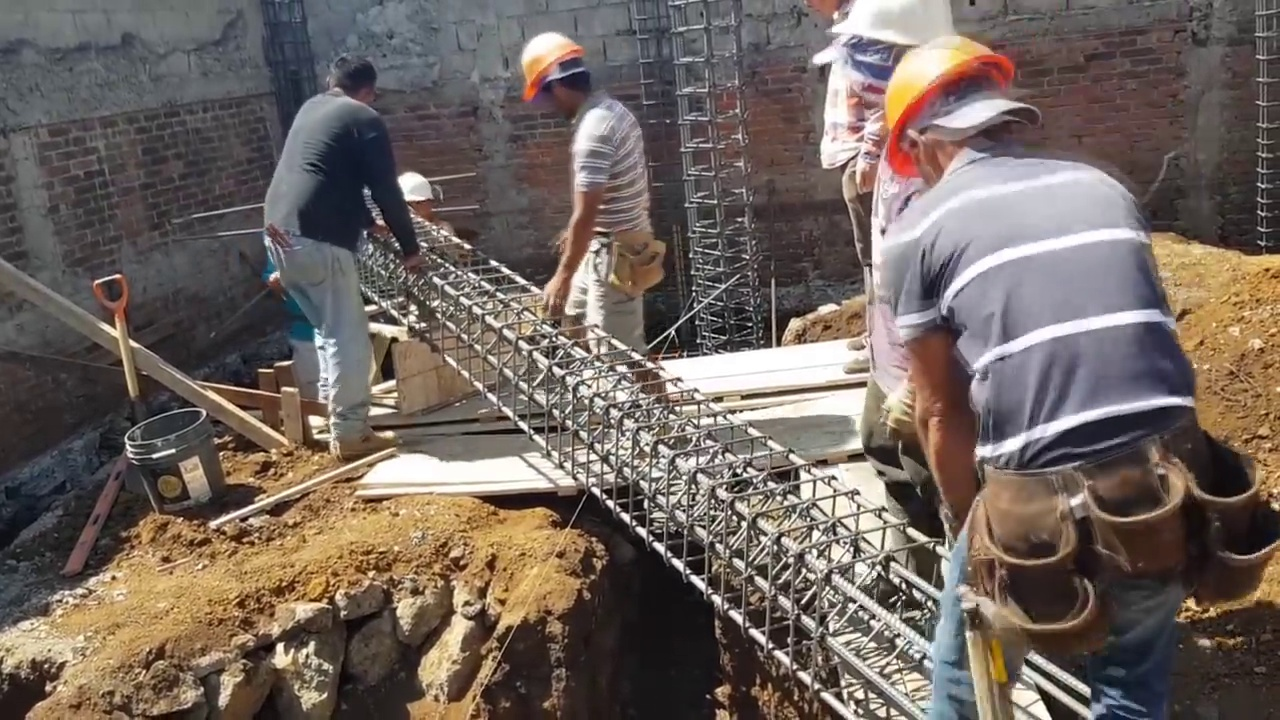helmet: (882, 29, 1016, 177), (824, 0, 958, 49), (514, 30, 585, 105), (397, 174, 437, 206)
helmet-off: (328, 55, 377, 104)
helmet-on: (881, 27, 1031, 217), (515, 29, 610, 123), (393, 172, 440, 224)
person: (824, 68, 1233, 668), (266, 39, 418, 474), (514, 33, 647, 383), (799, 0, 901, 280)
